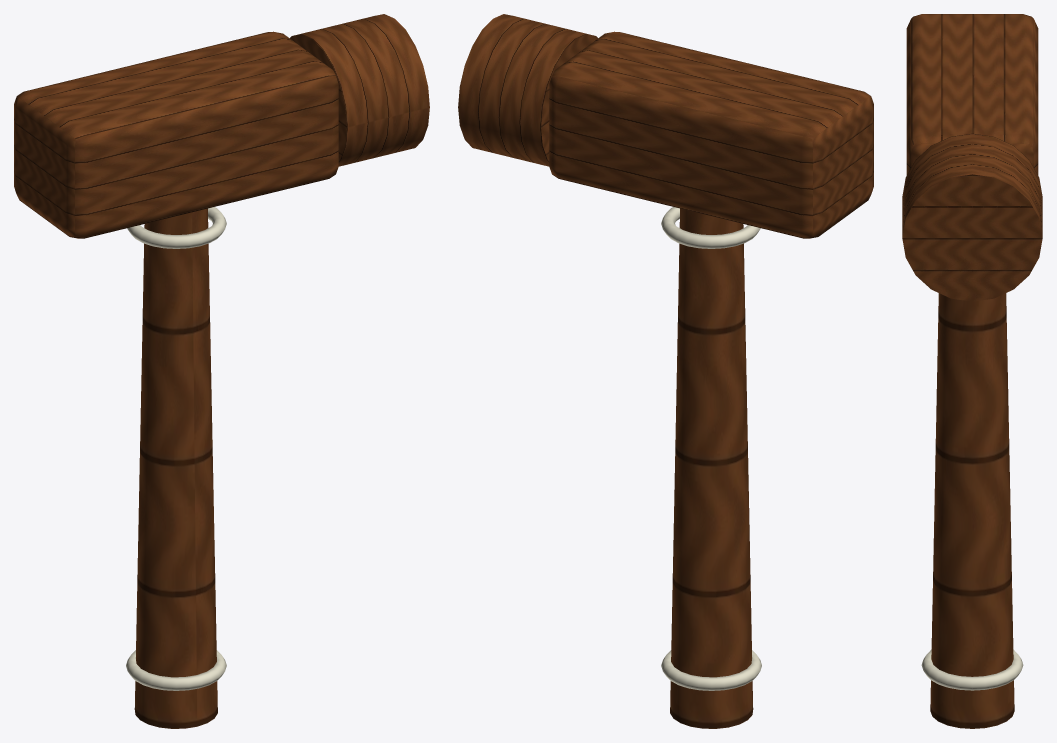
The model's file is wilderness-survival-camp-camp-mallet-e8b5a262__21963.glb.
3 views of the same model, side by side, from view 1: azimuth 30°, elevation 25°; view 2: azimuth 150°, elevation 25°; view 3: azimuth 270°, elevation 25° (orthographic).
Parts seen in each view (by area): view 1: camp-mallet; view 2: camp-mallet; view 3: camp-mallet.
Part boxes in pixels (bbox=[...]): camp-mallet: bbox=[14, 14, 429, 728]; camp-mallet: bbox=[458, 14, 873, 728]; camp-mallet: bbox=[902, 14, 1042, 728].
Size of the model in its own units: 0.235 by 0.405 by 0.08.
2 materials, 1 textured.
